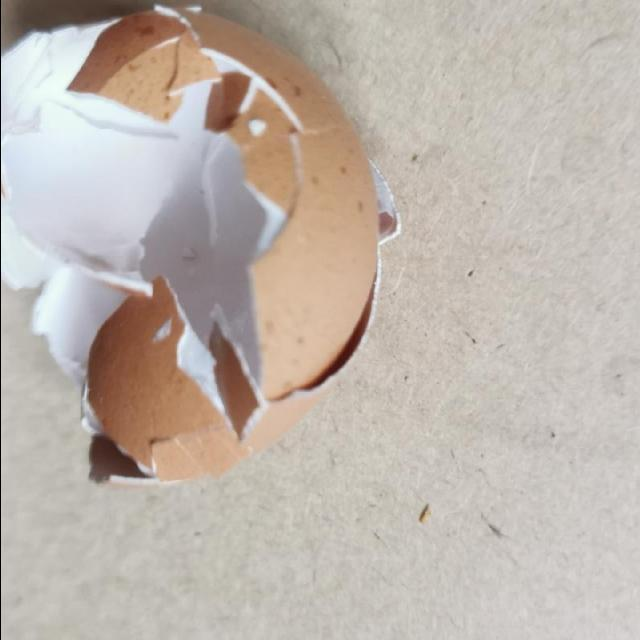egg shell: (1, 6, 398, 492)
